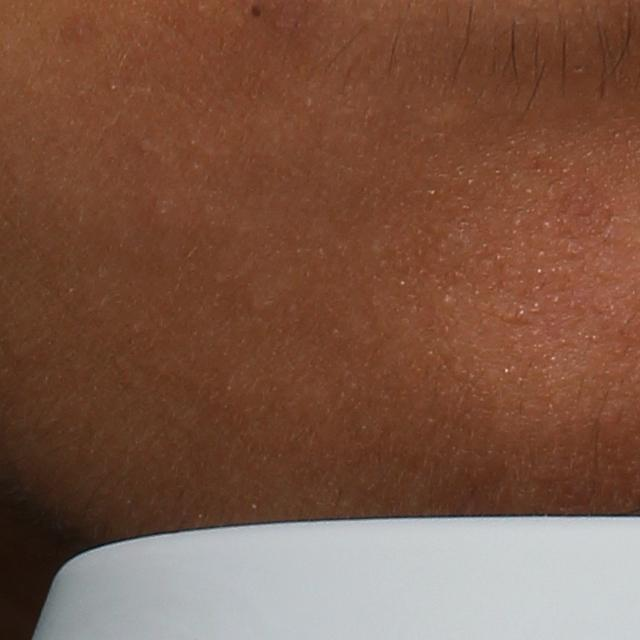nevus: (249, 2, 263, 22)
